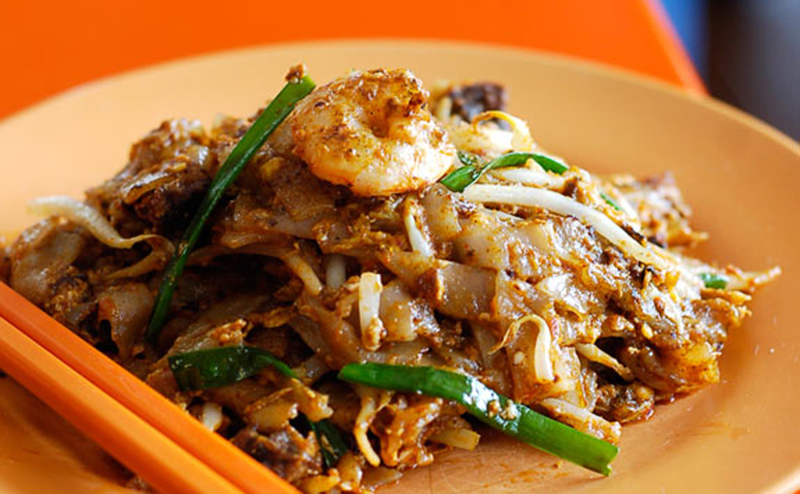Char Kway Teow: (27, 79, 766, 471)
